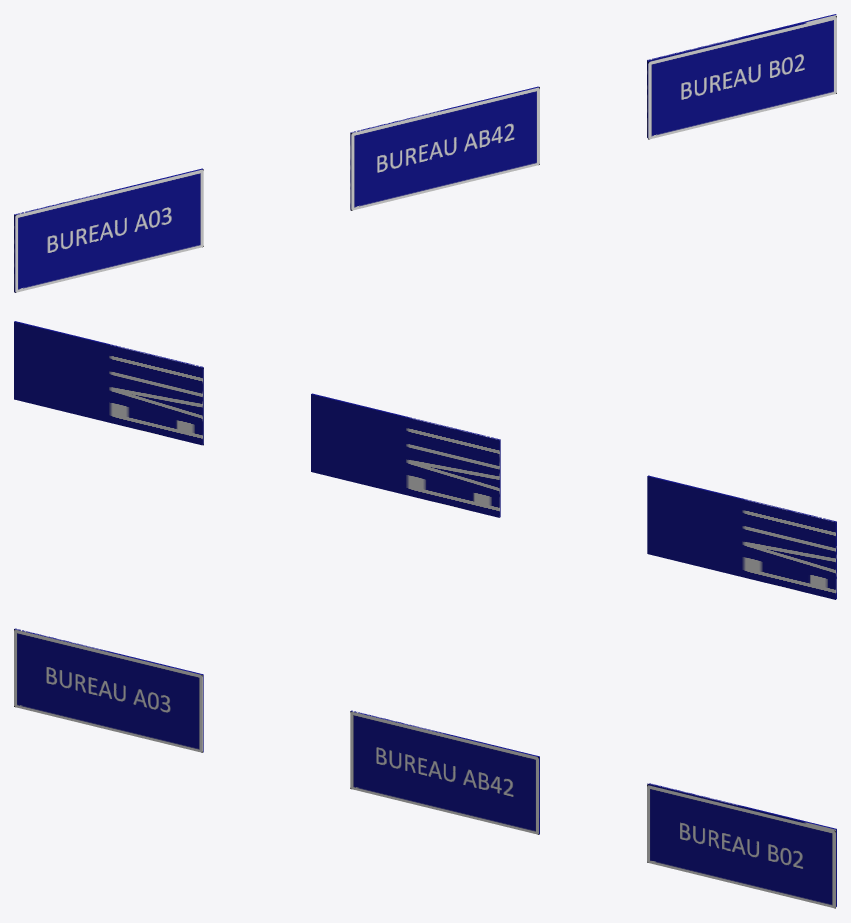
Rendered from affiches bureaux.fbx.
3 renders of one model, top to bottom at view 1: azimuth 30°, elevation 25°; view 2: azimuth 150°, elevation 25°; view 3: azimuth 330°, elevation 25°, orthographic.
Visible parts, largest first — view 1: BUREAU A01.004, BUREAU A01.001, BUREAU A01.003; view 2: BUREAU A01.001, BUREAU A01.003, BUREAU A01.004; view 3: BUREAU A01.004, BUREAU A01.001, BUREAU A01.003.
Part boxes in pixels (<box>): BUREAU A01.004: <box>647,14,836,139</box>; BUREAU A01.001: <box>14,168,203,292</box>; BUREAU A01.003: <box>350,86,539,210</box>; BUREAU A01.001: <box>647,475,836,599</box>; BUREAU A01.003: <box>311,393,500,517</box>; BUREAU A01.004: <box>14,321,203,445</box>; BUREAU A01.004: <box>647,783,836,908</box>; BUREAU A01.001: <box>14,628,203,752</box>; BUREAU A01.003: <box>350,710,539,834</box>.
Bounding box in the file's own units: 178 × 16.33 × 0.5384.
Materials: 4 (4 with a texture image).
